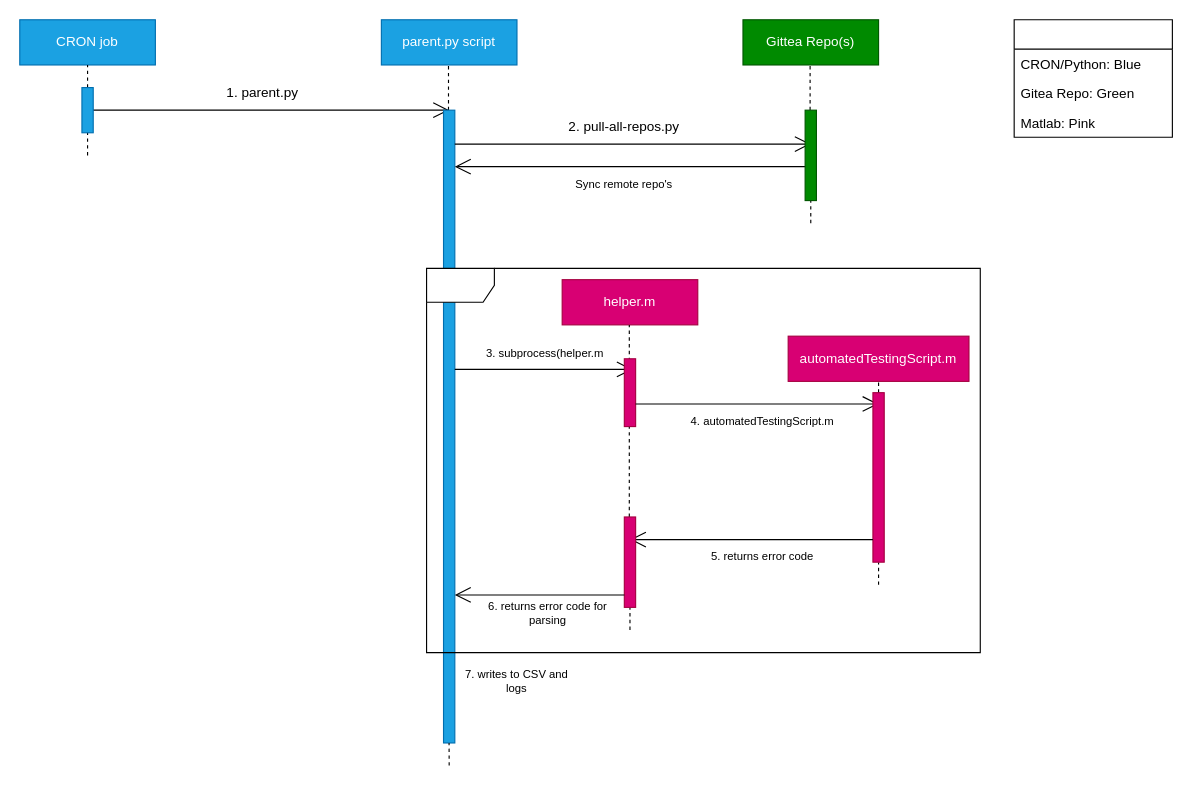
The diagram is 1192 pixels wide and 786 high, and some of its shapes have lost their labels. The shapes that lost their labels are listed below. From the top down, each one's box as (x1, y1, x2, y2) in pixels, then its label:
(1013, 19, 1172, 137): Legend
(425, 267, 980, 653): loop
